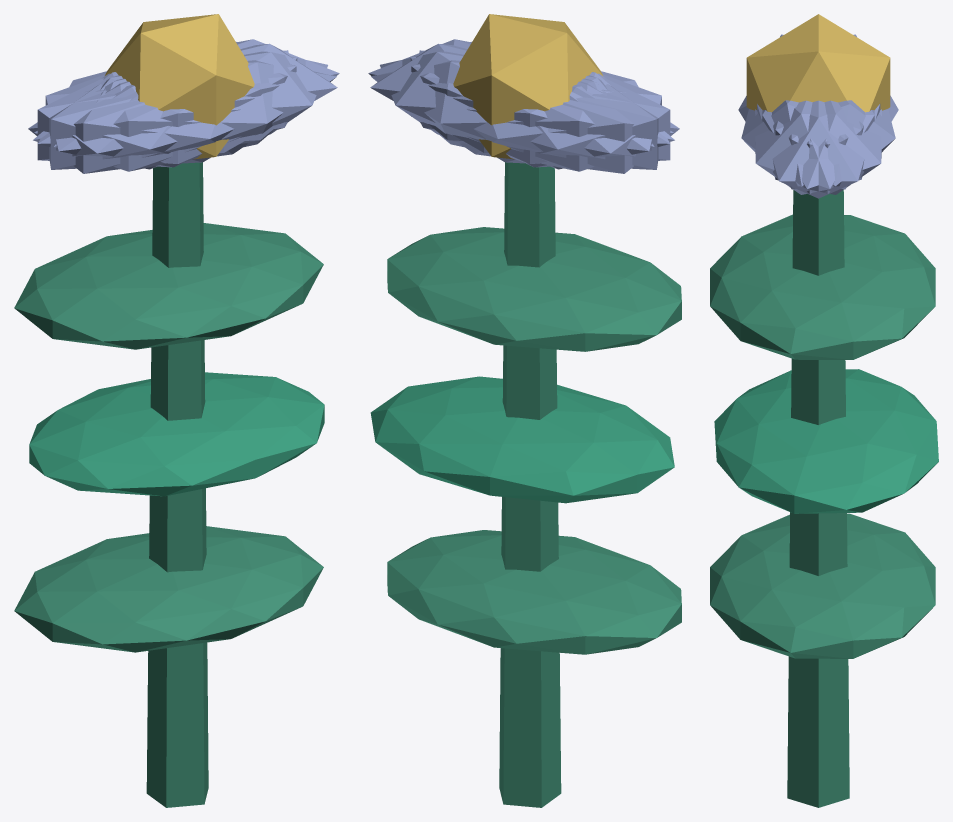
The model's file is wendlandia-uvariifolia.glb.
3 views of the same model, side by side, from view 1: azimuth 30°, elevation 25°; view 2: azimuth 150°, elevation 25°; view 3: azimuth 270°, elevation 25° (orthographic).
Visible parts, largest first — view 1: leaf2, leaf0, leaf1, stem, center, petal1, petal6, petal2, petal5, petal7, petal0, petal4 (+2 smaller); view 2: leaf1, leaf2, leaf0, stem, center, petal8, petal3, petal7, petal4, petal2, petal0, petal5 (+2 smaller); view 3: leaf2, leaf1, leaf0, stem, center, petal0, petal4, petal5, petal8, petal1.
Boxes of the visible parts, left/top/right/bottom form: leaf2: left=14, top=223, right=323, bottom=349; leaf0: left=14, top=526, right=323, bottom=652; leaf1: left=29, top=372, right=324, bottom=496; stem: left=146, top=162, right=208, bottom=807; center: left=105, top=14, right=254, bottom=159; petal1: left=33, top=60, right=336, bottom=171; petal6: left=28, top=73, right=247, bottom=173; petal2: left=49, top=50, right=288, bottom=169; petal5: left=53, top=51, right=327, bottom=163; petal7: left=37, top=57, right=297, bottom=167; petal0: left=104, top=43, right=337, bottom=153; petal4: left=34, top=39, right=339, bottom=144; leaf1: left=370, top=376, right=674, bottom=503; leaf2: left=387, top=227, right=681, bottom=351; leaf0: left=387, top=530, right=681, bottom=654; stem: left=499, top=162, right=561, bottom=807; center: left=453, top=14, right=602, bottom=159; petal8: left=371, top=60, right=674, bottom=171; petal3: left=460, top=73, right=679, bottom=173; petal7: left=419, top=50, right=658, bottom=169; petal4: left=380, top=51, right=654, bottom=163; petal2: left=410, top=57, right=670, bottom=167; petal0: left=370, top=43, right=603, bottom=153; petal5: left=368, top=39, right=673, bottom=144; leaf2: left=710, top=214, right=935, bottom=359; leaf1: left=714, top=369, right=938, bottom=513; leaf0: left=710, top=513, right=935, bottom=658; stem: left=787, top=190, right=849, bottom=807; center: left=746, top=14, right=890, bottom=112; petal0: left=757, top=100, right=880, bottom=198; petal4: left=762, top=100, right=881, bottom=194; petal5: left=755, top=100, right=874, bottom=194; petal8: left=773, top=100, right=895, bottom=186; petal1: left=741, top=100, right=863, bottom=186.
Bounding box in the file's own units: 0.1464 × 0.358 × 0.0976.
